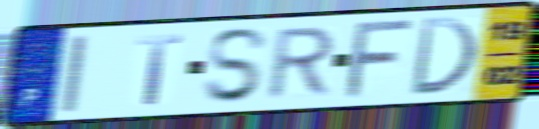D: (407, 15, 481, 97)
F: (341, 17, 420, 102)
I: (59, 33, 91, 116)
R: (263, 24, 341, 103)
S: (201, 25, 272, 106)
T: (135, 32, 185, 107)
